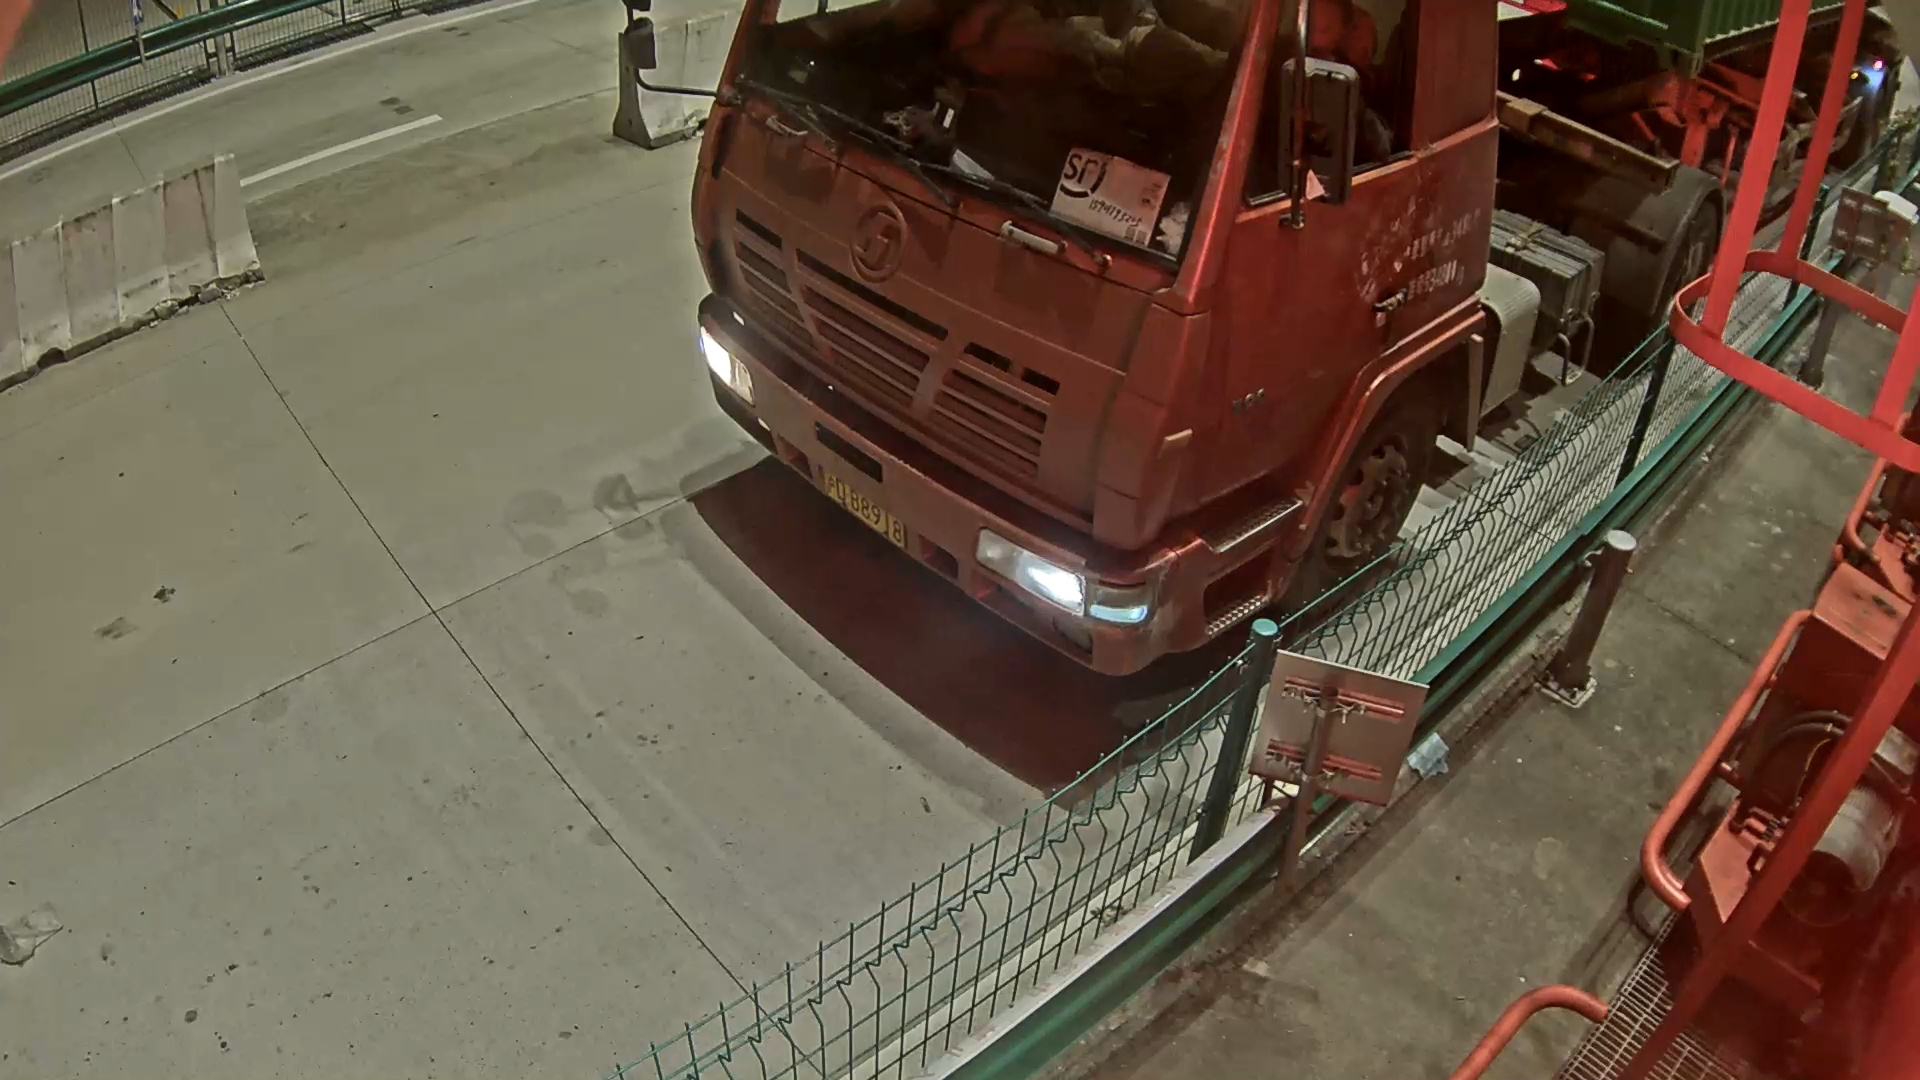head: (690, 1, 1503, 675)
plate: (822, 465, 907, 552)
